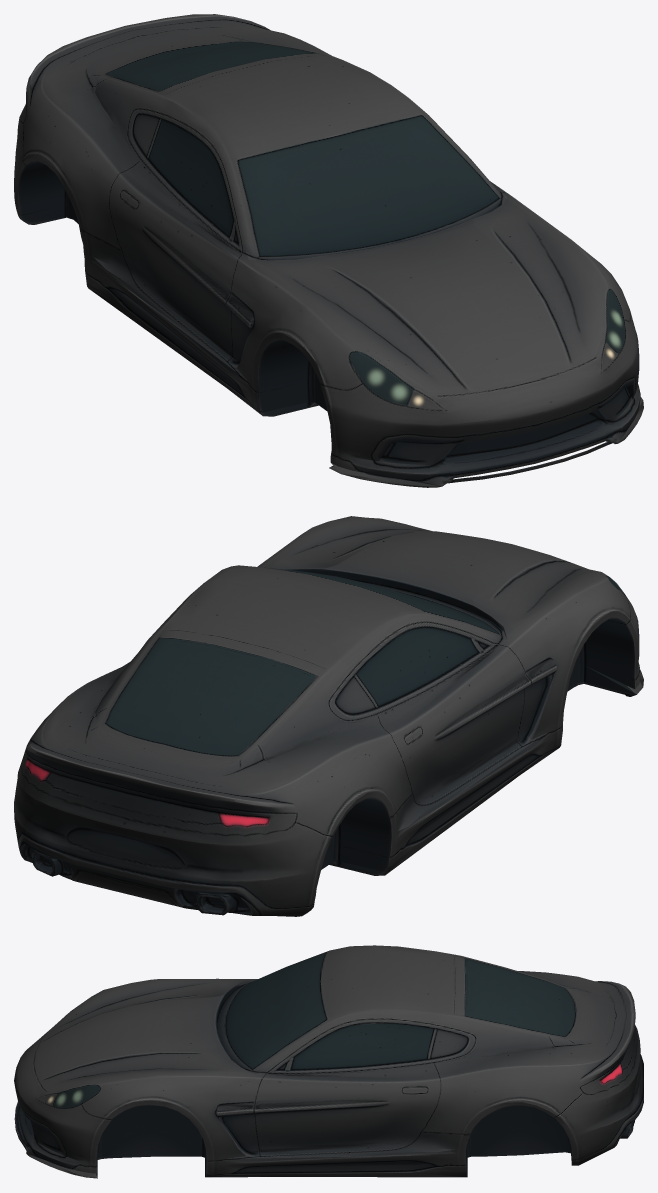
The model's file is 1_Car1.glb.
3 renders of one model, top to bottom at view 1: azimuth 30°, elevation 25°; view 2: azimuth 150°, elevation 25°; view 3: azimuth 270°, elevation 25°, orthographic. The views are drawn at different scales.
Parts seen in each view (by area): view 1: part_0000; view 2: part_0000; view 3: part_0000.
Part boxes in pixels (x1,y1,x2,y2): part_0000: (14, 14, 643, 487); part_0000: (14, 516, 643, 916); part_0000: (14, 945, 643, 1178).
Size of the model in its own units: 1.96 by 1.21 by 4.55.
Materials: 1 (1 with a texture image).
